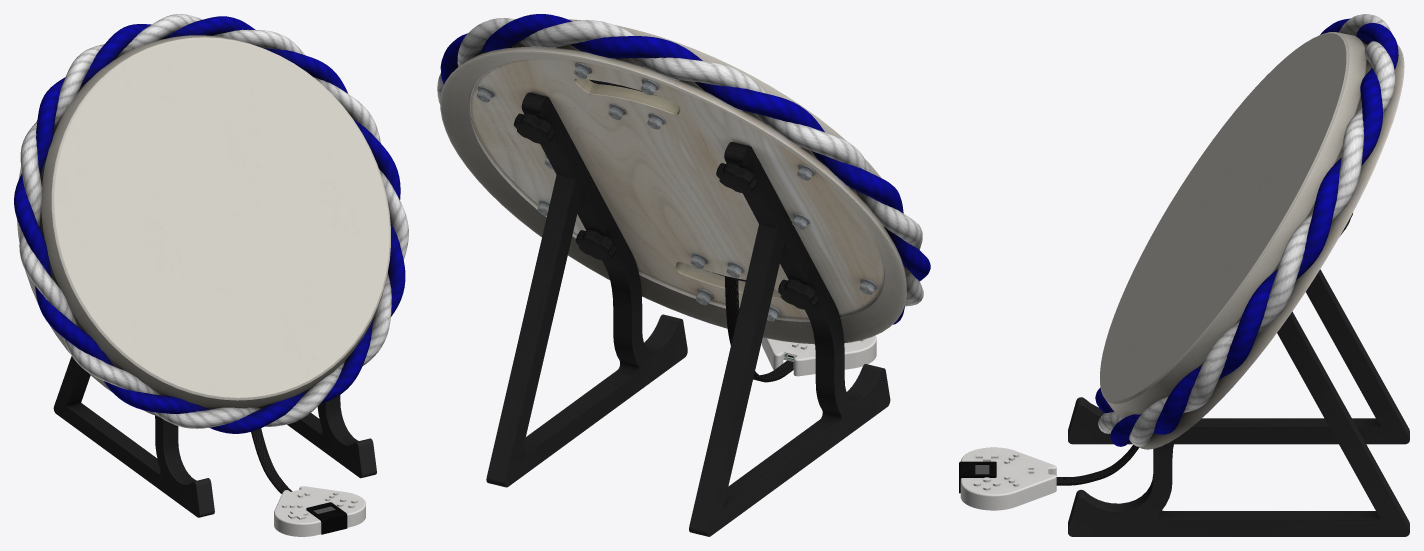
Rendered from iTaiko+Controller+Cavo_GLB OTTIMIZZATO.glb.
3 renders of one model, left to right at view 1: azimuth 30°, elevation 25°; view 2: azimuth 150°, elevation 25°; view 3: azimuth 270°, elevation 25°, orthographic. The views are drawn at different scales.
Parts seen in each view (by area): view 1: iTaiko_Low, Controller_Low, Cavo_Low; view 2: iTaiko_Low, Controller_Low, Cavo_Low; view 3: iTaiko_Low, Controller_Low, Cavo_Low.
Part boxes in pixels (x1,y1,x2,y2): iTaiko_Low: (14, 14, 408, 517); Controller_Low: (274, 486, 365, 536); Cavo_Low: (251, 428, 292, 493); iTaiko_Low: (437, 14, 930, 536); Controller_Low: (761, 335, 876, 376); Cavo_Low: (725, 276, 793, 382); iTaiko_Low: (1068, 14, 1409, 536); Controller_Low: (959, 447, 1056, 510); Cavo_Low: (1056, 444, 1139, 485).
Bounding box in the file's own units: 24.88 × 24.2 × 22.28.
4 materials, 4 textured.
